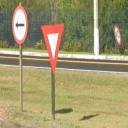preferencia: (41, 24, 65, 76)
speed_limit_40: (114, 24, 121, 46)
